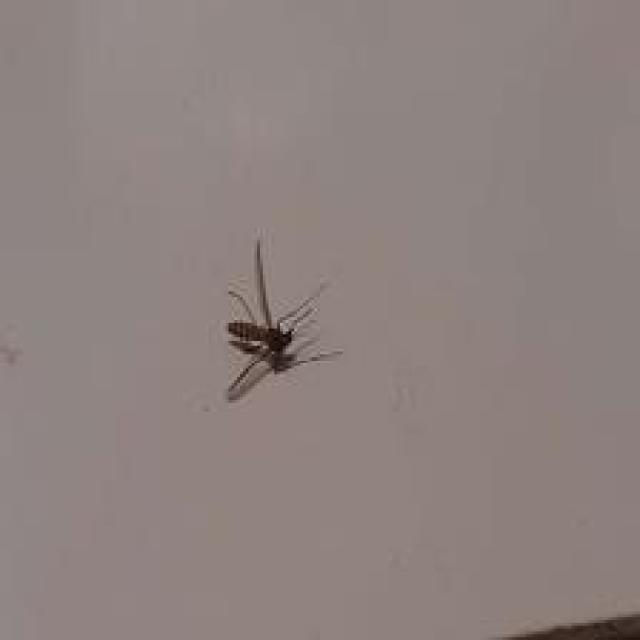Culex: (223, 237, 343, 403)
